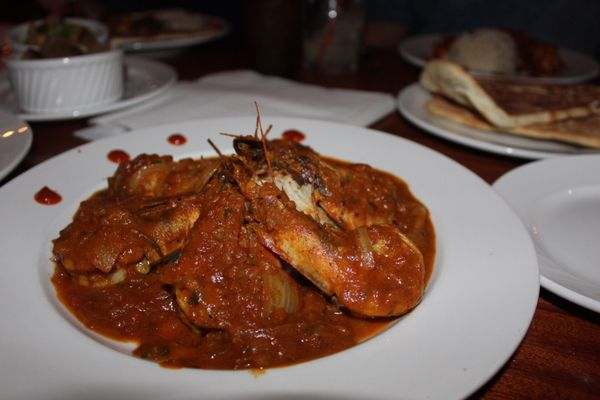sushi: (4, 13, 123, 113), (9, 49, 125, 115)
